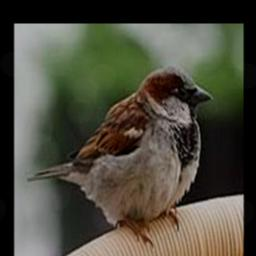Sparrow: (27, 64, 213, 245)
